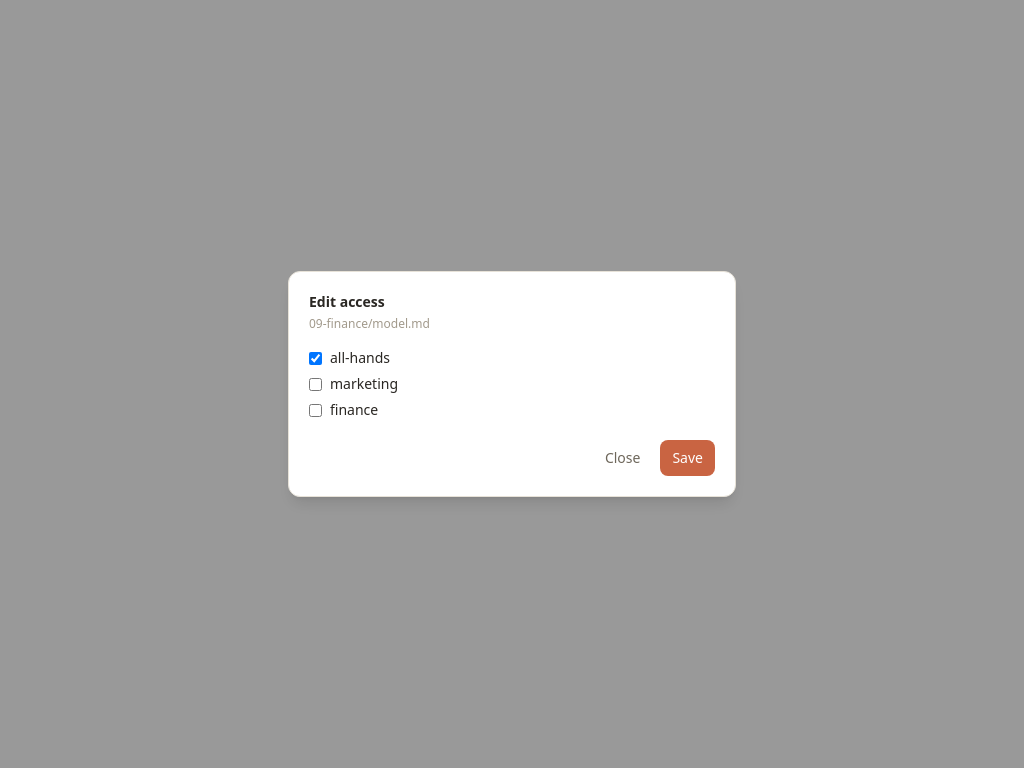
AccessModal › reports a direct write as applied, with no review link
Expected: the checkbox labelled "all-hands" is checked, x1=309 y1=352 x2=322 y2=364
What coordinates should you click on to do the following:
click the button "Save"
I would click on:
 (688, 458)
Its box is x1=660 y1=440 x2=715 y2=476.
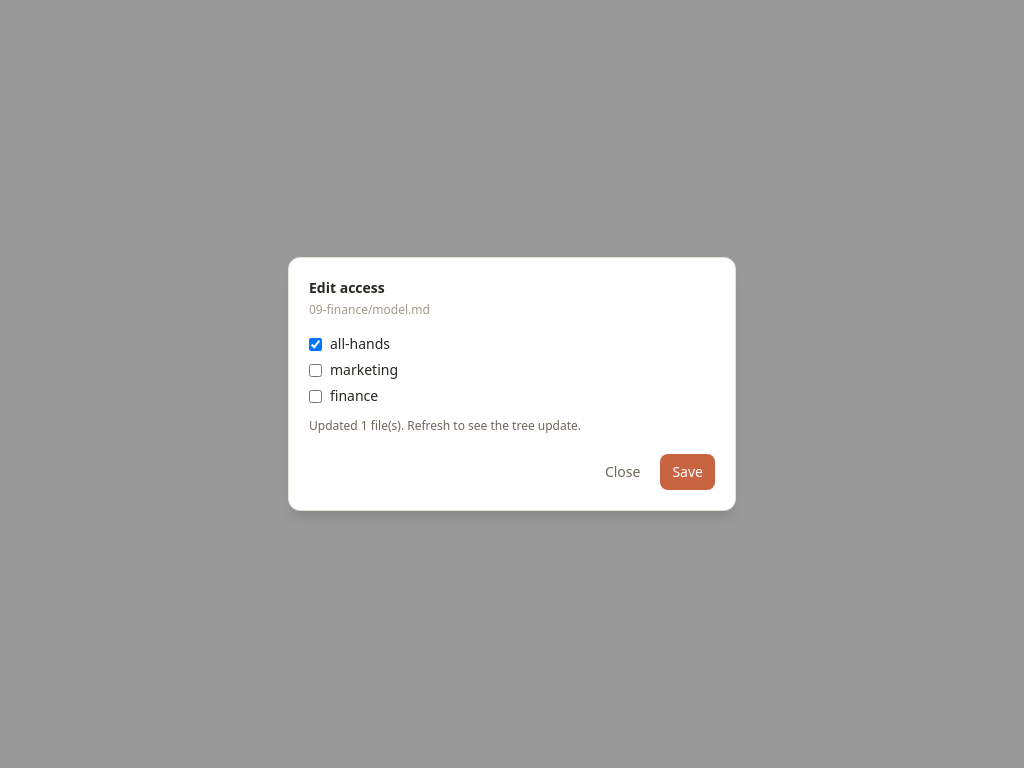
Expected: the text "Updated 1 file(s). Refresh to see the tree update." is shown, x1=309 y1=417 x2=581 y2=434
